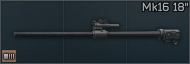FN SCAR-L 5.56x45 18 inch barrel: (0, 0, 190, 64)
